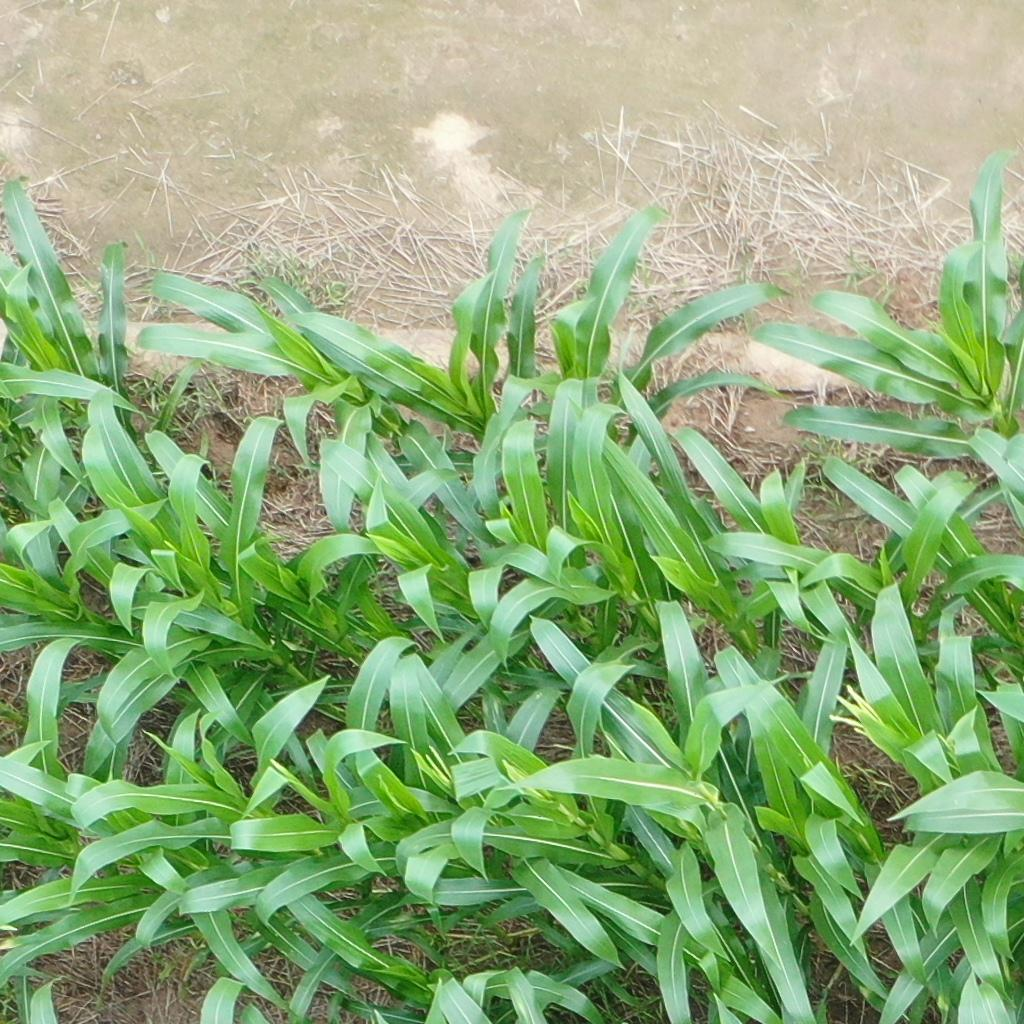Tassel: (831, 684, 888, 741), (416, 744, 459, 792)
